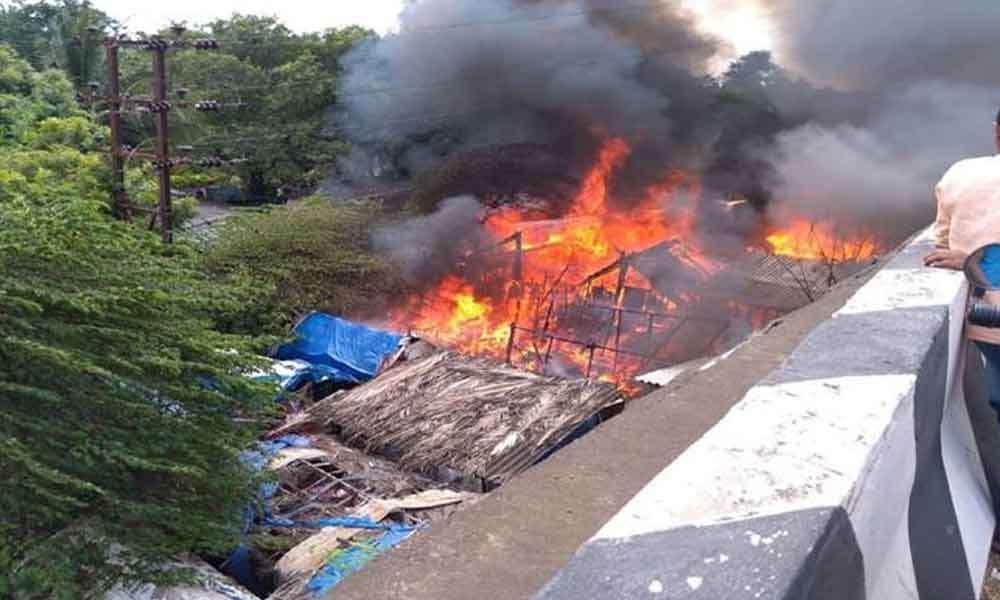fire: (491, 140, 715, 295), (384, 272, 562, 361), (766, 222, 872, 262), (569, 338, 640, 396)
smoke: (337, 0, 719, 157), (772, 0, 1000, 152), (761, 151, 939, 222), (373, 194, 487, 272), (665, 275, 737, 353), (303, 157, 396, 197)
